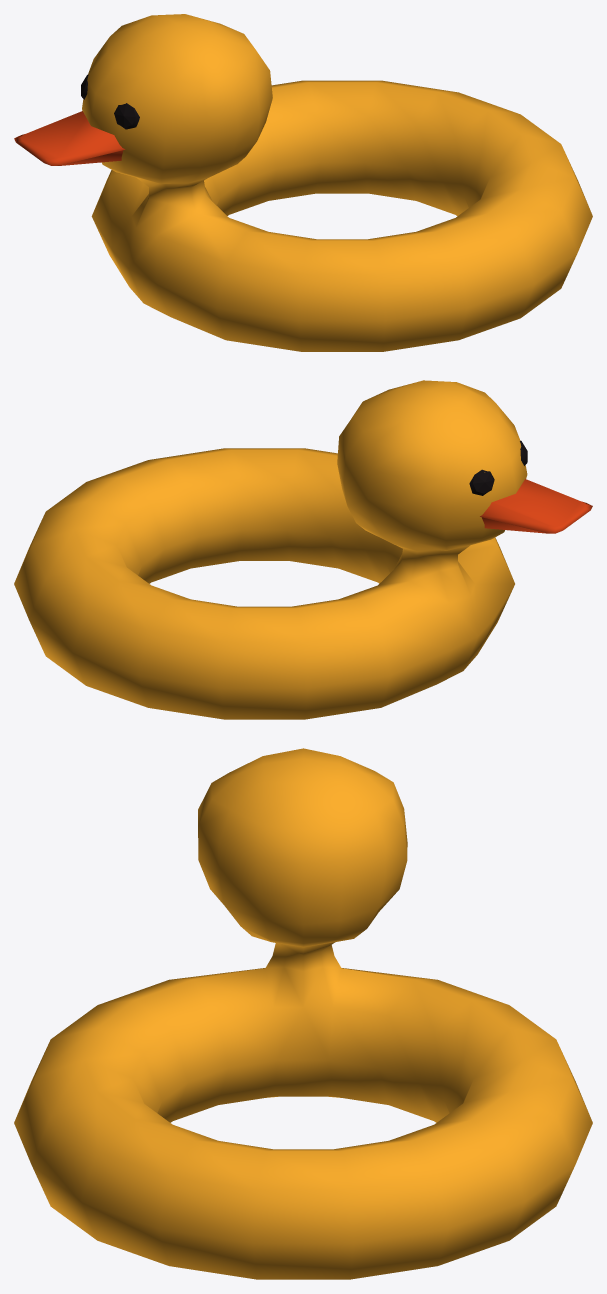
The model's file is M_Pxiaohuangya01.FBX.
3 views of the same model, one above another, from view 1: azimuth 30°, elevation 25°; view 2: azimuth 150°, elevation 25°; view 3: azimuth 270°, elevation 25° (orthographic). The views are drawn at different scales.
Parts seen in each view (by area): view 1: M_Pxiaohuangya01_01, M_Pxiaohuangya01_02; view 2: M_Pxiaohuangya01_01, M_Pxiaohuangya01_02; view 3: M_Pxiaohuangya01_01.
Boxes of the visible parts, left/top/right/bottom form: M_Pxiaohuangya01_01: left=82, top=14, right=592, bottom=351; M_Pxiaohuangya01_02: left=14, top=74, right=139, bottom=165; M_Pxiaohuangya01_01: left=14, top=380, right=527, bottom=719; M_Pxiaohuangya01_02: left=469, top=440, right=592, bottom=533; M_Pxiaohuangya01_01: left=14, top=748, right=592, bottom=1279.
Size of the model in its own units: 1.5 by 0.7874 by 1.24.
